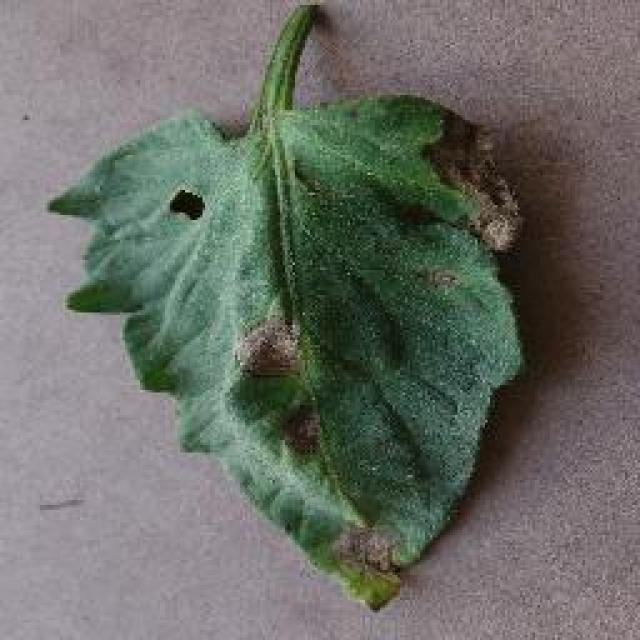Tomato___Early_blight: (45, 3, 529, 615)
